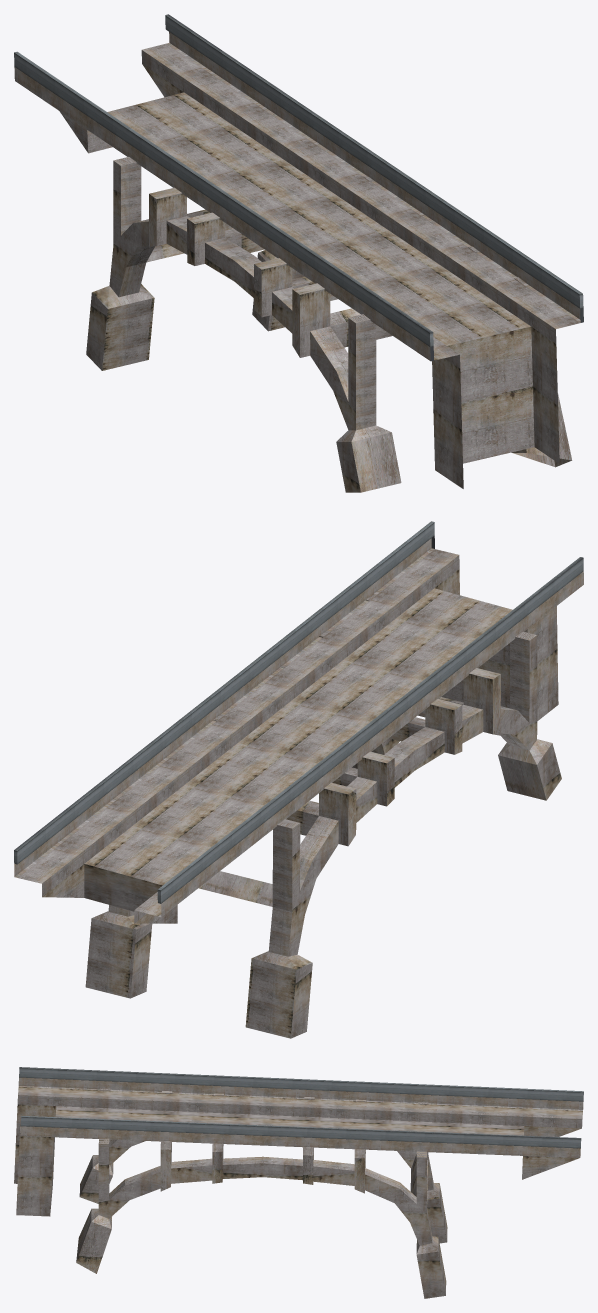
File: sw_bridge.obj
3 views of the same model, one above another, from view 1: azimuth 30°, elevation 25°; view 2: azimuth 150°, elevation 25°; view 3: azimuth 270°, elevation 25° (orthographic). The views are drawn at different scales.
Parts seen in each view (by area): view 1: sw_bridge; view 2: sw_bridge; view 3: sw_bridge.
Boxes of the visible parts, x1,y1,x2,y2 form: sw_bridge: (14, 14, 583, 492); sw_bridge: (14, 521, 583, 1038); sw_bridge: (14, 1067, 583, 1298).
Size of the model in its own units: 31.65 by 36.52 by 110.
